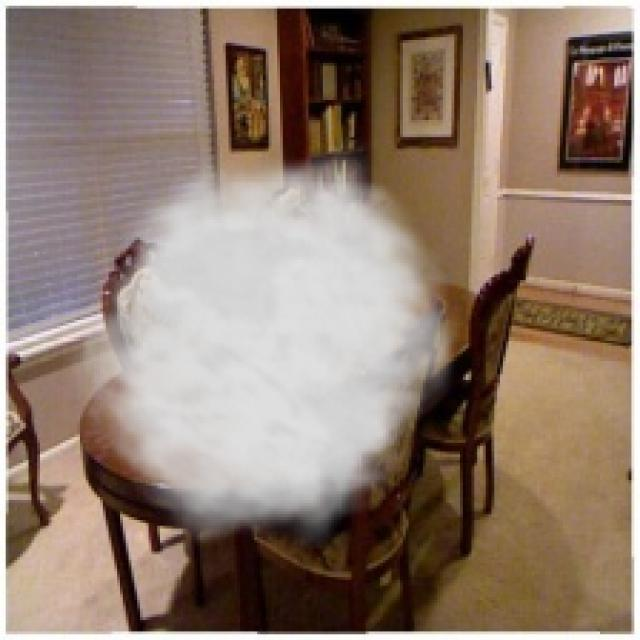Smoke: (60, 137, 469, 549)
